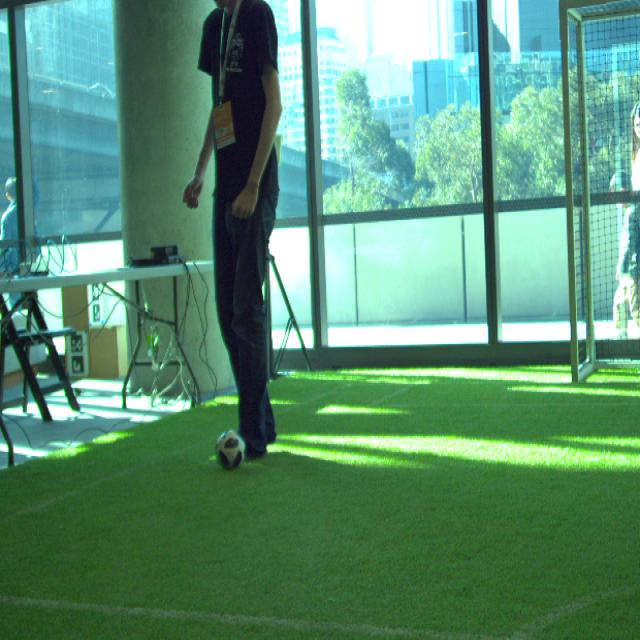ball: (213, 429, 244, 471)
goalpost: (559, 0, 578, 385)
